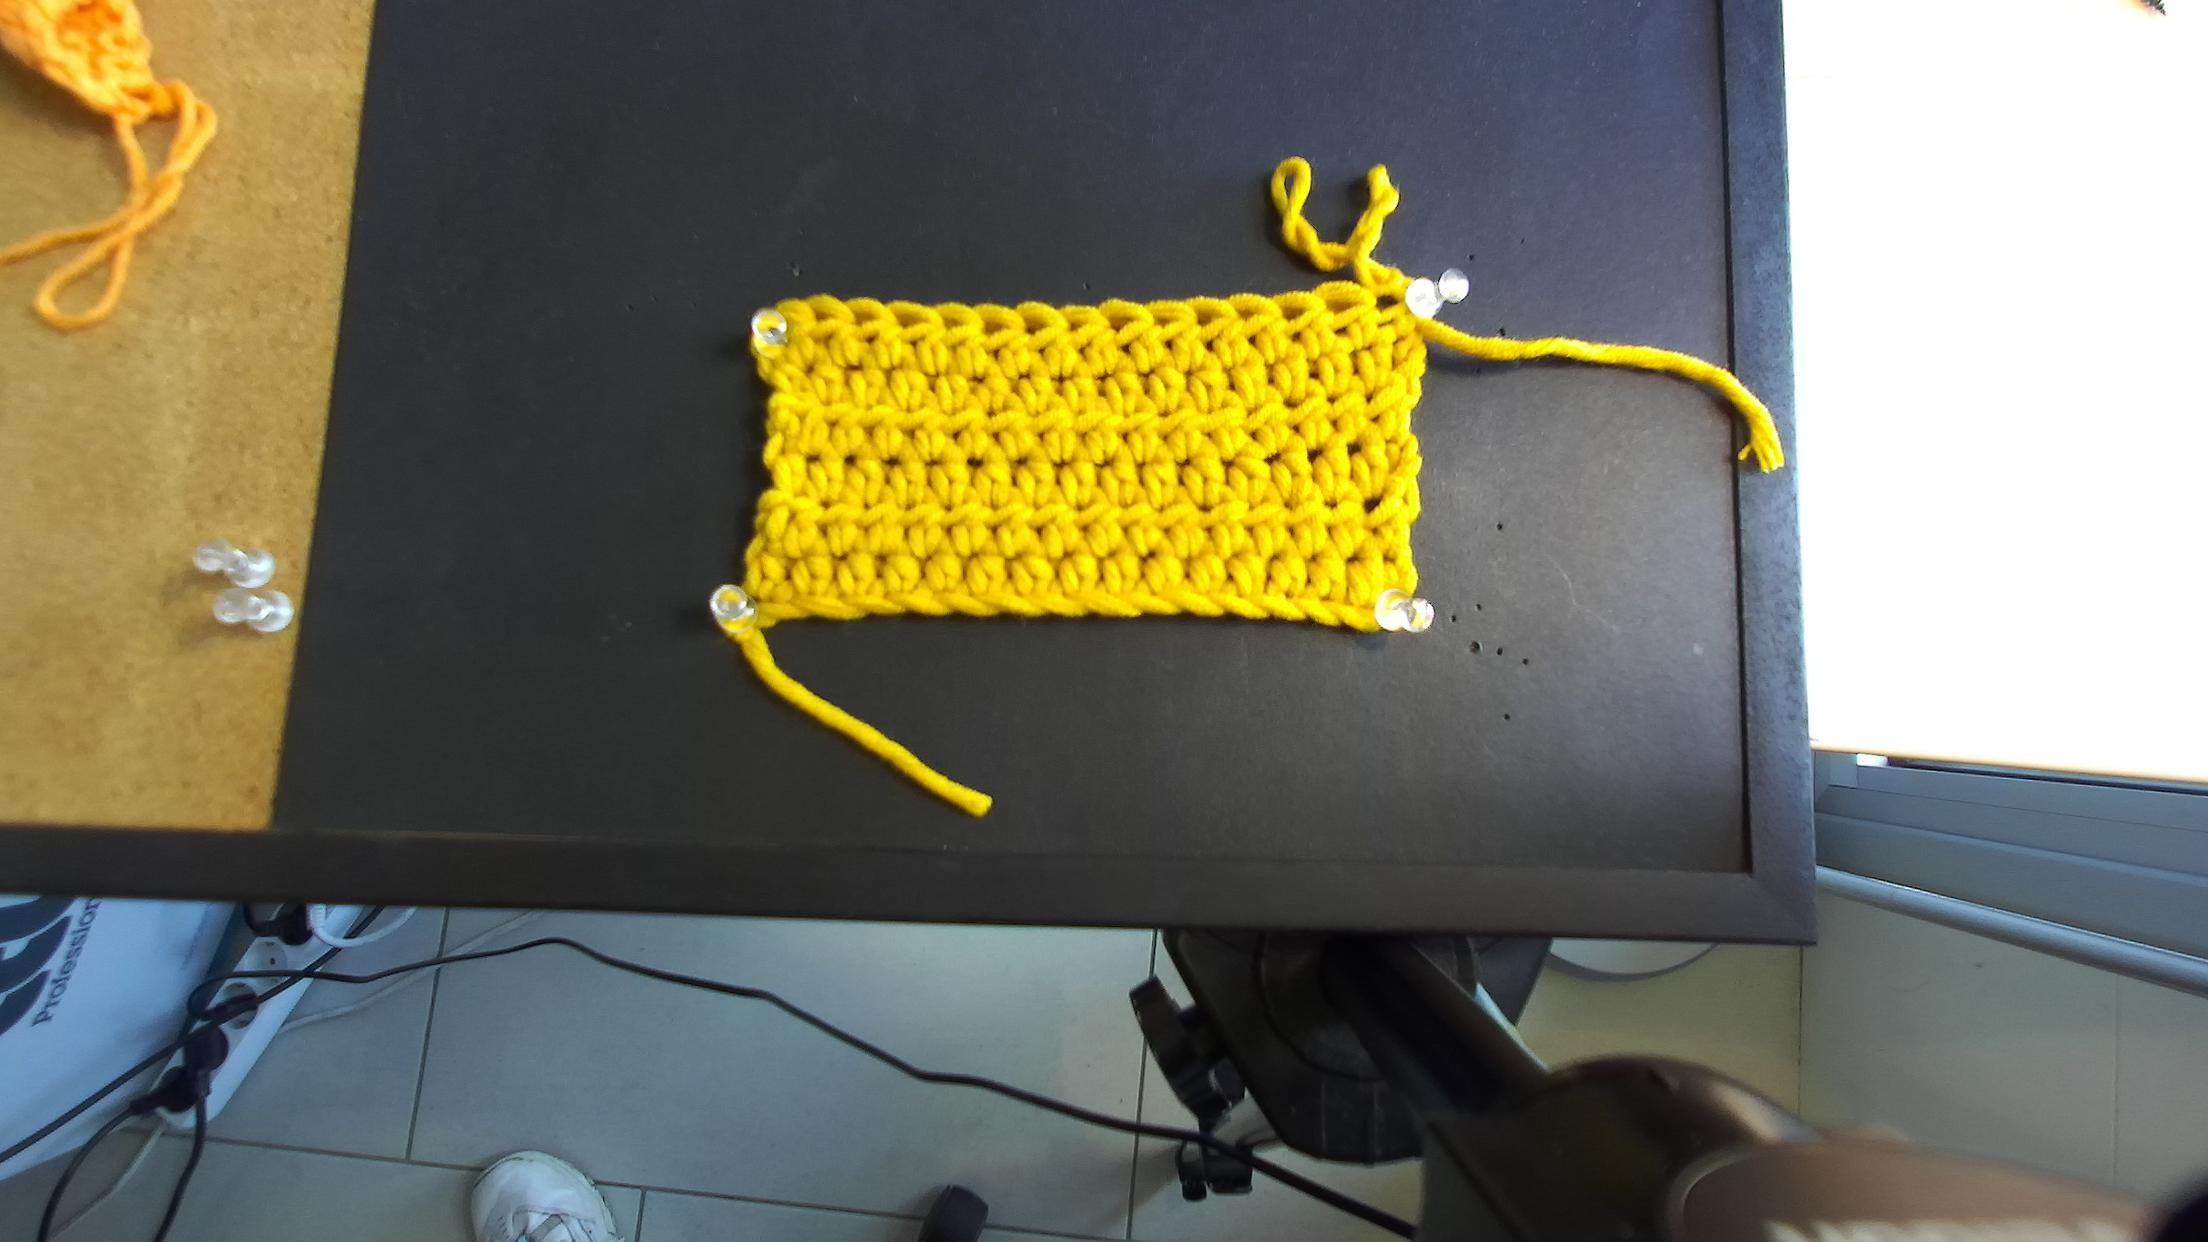hole: (1325, 296, 1360, 316), (1024, 315, 1056, 335), (1108, 313, 1140, 333), (894, 313, 931, 330), (1196, 310, 1226, 329), (1279, 305, 1308, 324), (1375, 295, 1401, 314), (984, 320, 1014, 336), (1153, 311, 1181, 328), (853, 311, 878, 327), (943, 317, 970, 331), (1236, 309, 1263, 322), (1069, 319, 1089, 333), (814, 310, 837, 321)
swatch: (741, 283, 1434, 634)
